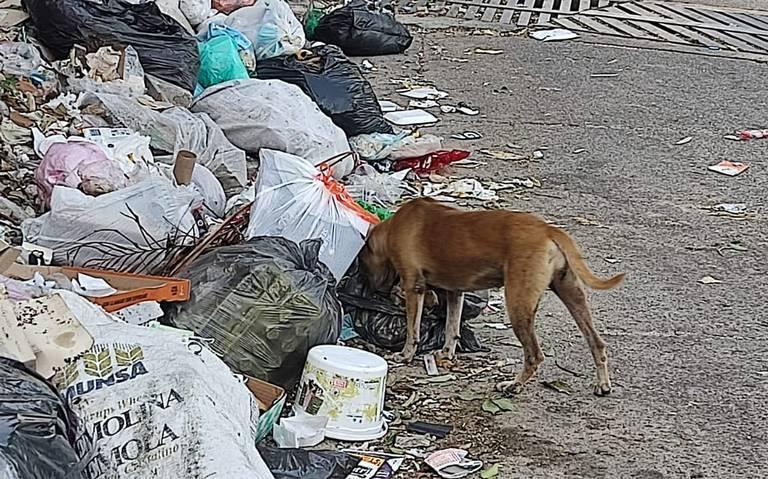normal_dogs: (358, 190, 632, 404)
